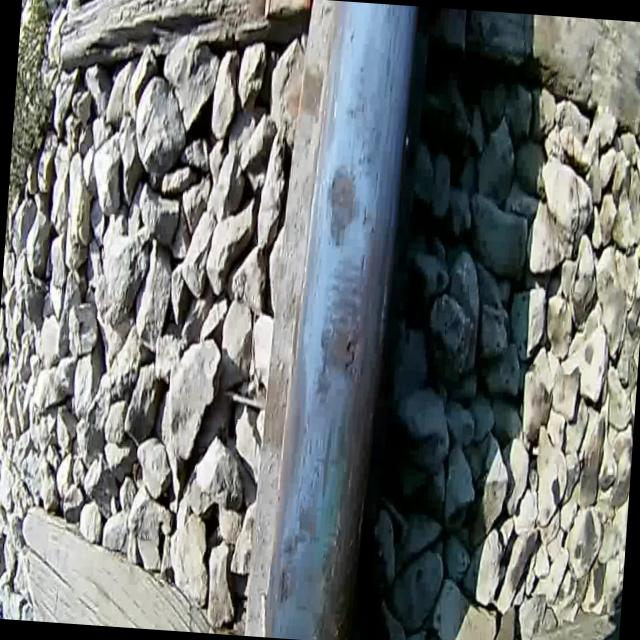Spallings: (336, 325, 362, 386), (277, 564, 296, 608)
Squats: (307, 211, 401, 640), (274, 413, 336, 614), (308, 253, 375, 412), (317, 151, 363, 251)
